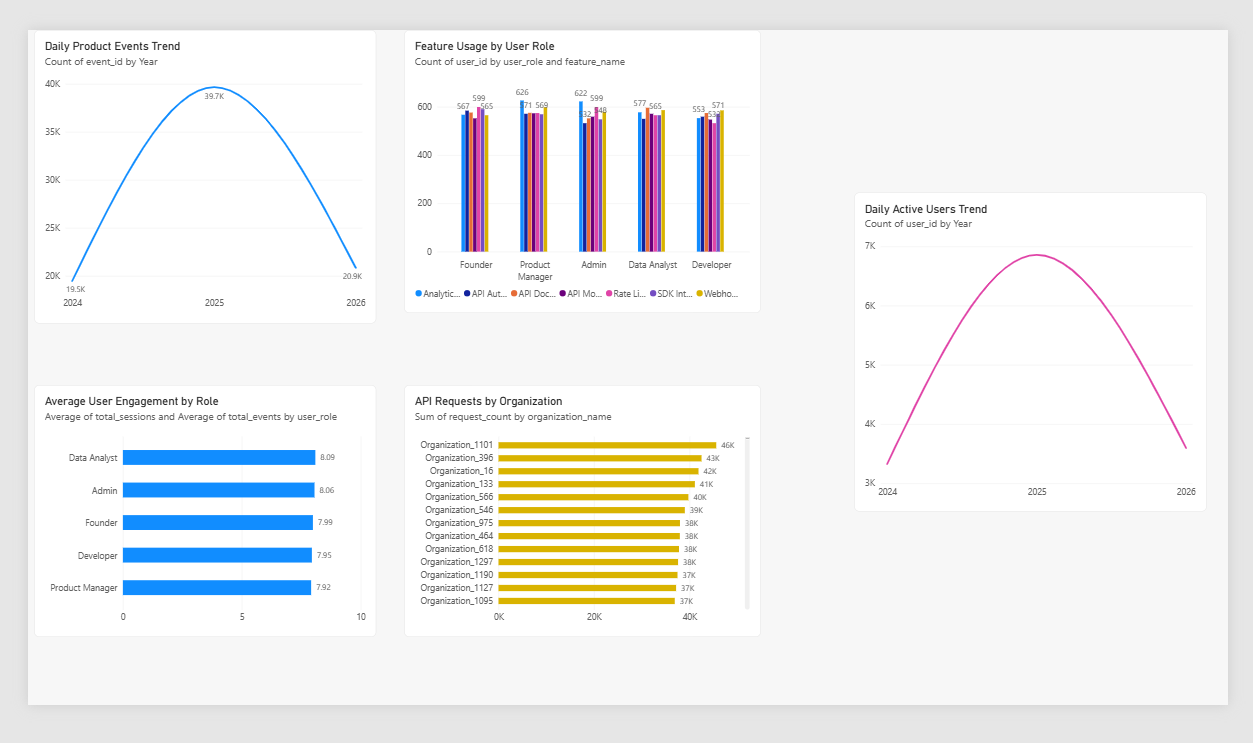

This screenshot's page, from the dashboard's own definition file:
{"tool":"powerbi","page":{"name":"Product Usage & Engagement","canvas":[1920,1080],"ordinal":1},"visuals":[{"type":"lineChart","title":"Daily Product Events Trend","fields":{"Category":["product_events.event_timestamp.Variation.Date Hierarchy.Year","product_events.event_timestamp.Variation.Date Hierarchy.Quarter","product_events.event_timestamp.Variation.Date Hierarchy.Month","product_events.event_timestamp.Variation.Date Hierarchy.Day"],"Y":["Count(product_events.event_id)"]},"box":[10.3,0,547.5,469.3],"z":0},{"type":"clusteredColumnChart","title":"Feature Usage by User Role","fields":{"Category":["users.user_role"],"Series":["feature_usage.feature_name"],"Y":["Count(feature_usage.user_id)"]},"box":[601,0,570.2,452.8],"z":1000},{"type":"clusteredBarChart","title":"Average User Engagement by Role","fields":{"Category":["users.user_role"],"Y":["Avg(user_engagement.total_sessions)"]},"box":[10.3,568.1,547.5,403.4],"z":2000},{"type":"clusteredBarChart","title":"API Requests by Organization","fields":{"Category":["organizations.organization_name"],"Y":["Sum(api_usage.request_count)"]},"box":[601,568.1,570.2,403.4],"z":3000},{"type":"lineChart","title":"Daily Active Users Trend","fields":{"Category":["product_events.event_timestamp.Variation.Date Hierarchy.Year","product_events.event_timestamp.Variation.Date Hierarchy.Quarter","product_events.event_timestamp.Variation.Date Hierarchy.Month","product_events.event_timestamp.Variation.Date Hierarchy.Day"],"Y":["Count(product_events.user_id)"]},"box":[1321.4,259.3,564,510.5],"z":4000}]}

Visuals, with their boxes on the page's 1920x1080 design canvas (x1, y1, x2, y2). These are canvas units, not pixel positions in the 1253x743 screenshot, which may show the page scaled, cropped or inside an application window:
"Daily Product Events Trend" lineChart: (x1=10, y1=0, x2=558, y2=469)
"Feature Usage by User Role" clusteredColumnChart: (x1=601, y1=0, x2=1171, y2=453)
"Average User Engagement by Role" clusteredBarChart: (x1=10, y1=568, x2=558, y2=972)
"API Requests by Organization" clusteredBarChart: (x1=601, y1=568, x2=1171, y2=972)
"Daily Active Users Trend" lineChart: (x1=1321, y1=259, x2=1885, y2=770)
